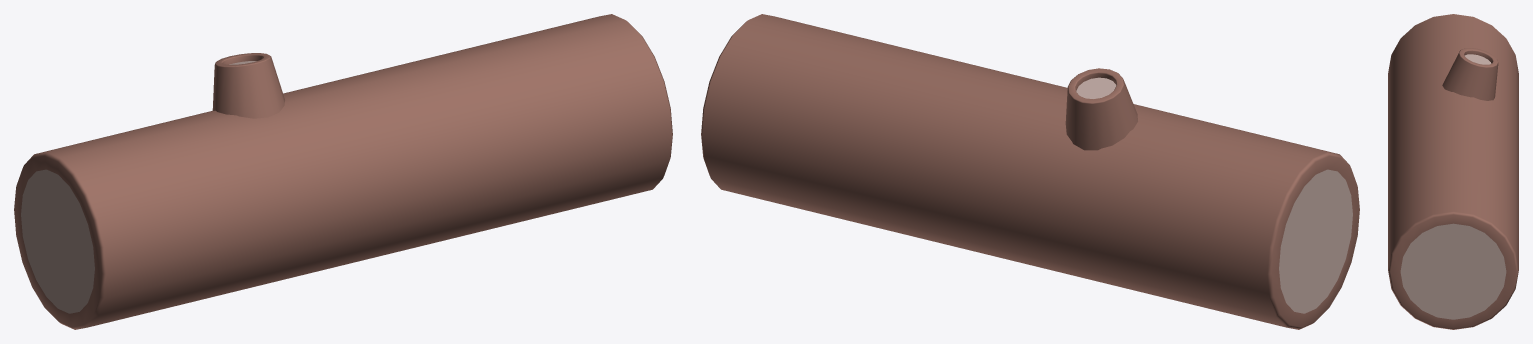
The model's file is City_17_Log_3.glb.
The picture shows the model from 3 angles, left to right: view 1: azimuth 30°, elevation 25°; view 2: azimuth 150°, elevation 25°; view 3: azimuth 270°, elevation 25°; orthographic projection. The views are drawn at different scales.
Visible parts, largest first — view 1: City_17_Log_3; view 2: City_17_Log_3; view 3: City_17_Log_3.
Boxes of the visible parts, x1,y1,x2,y2 form: City_17_Log_3: [14, 14, 672, 329]; City_17_Log_3: [701, 14, 1359, 329]; City_17_Log_3: [1388, 14, 1518, 329].
Size of the model in its own units: 0.7952 by 0.278 by 0.2203.
1 material, 1 textured.
